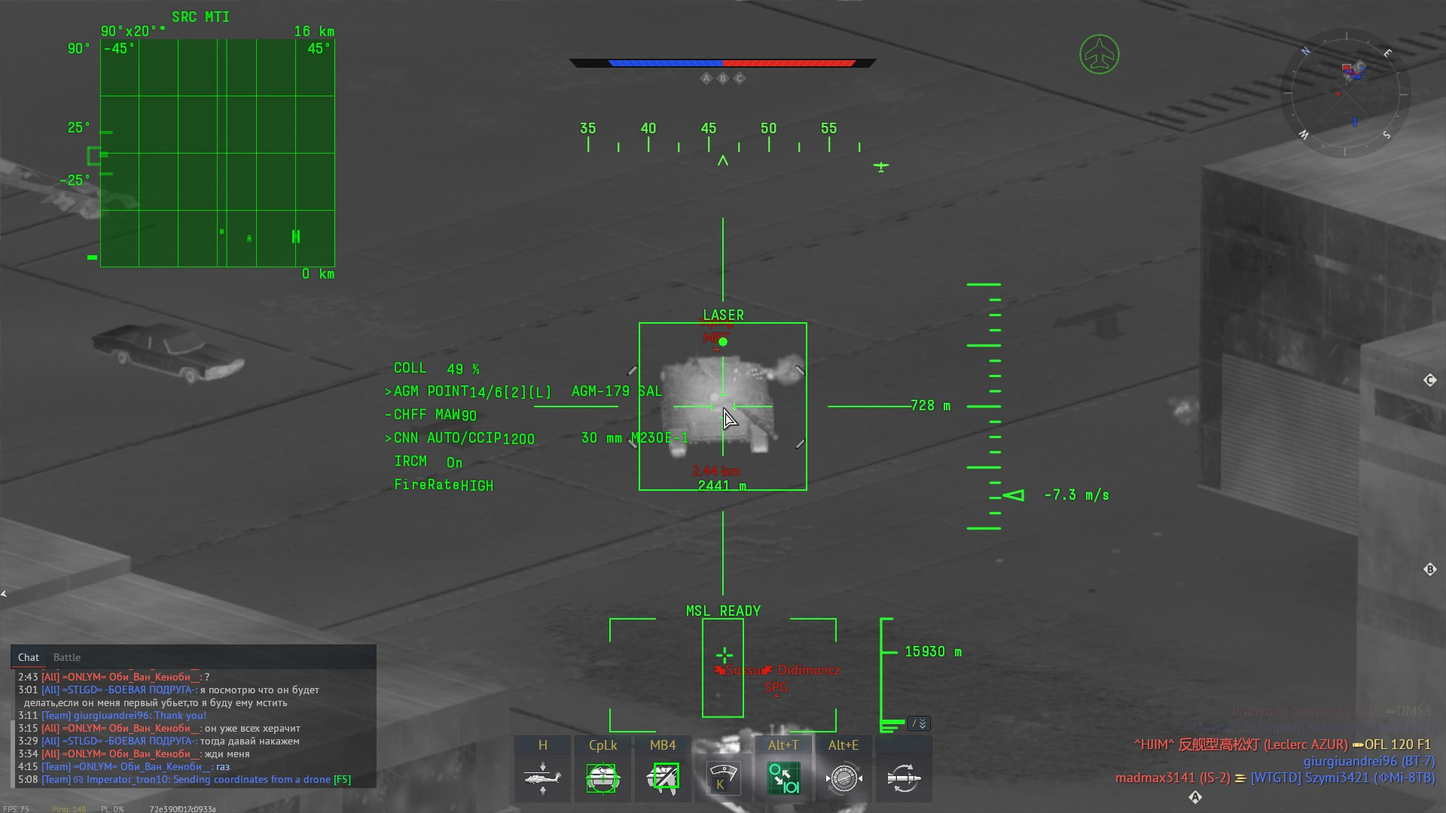t72b: (655, 355, 780, 460)
